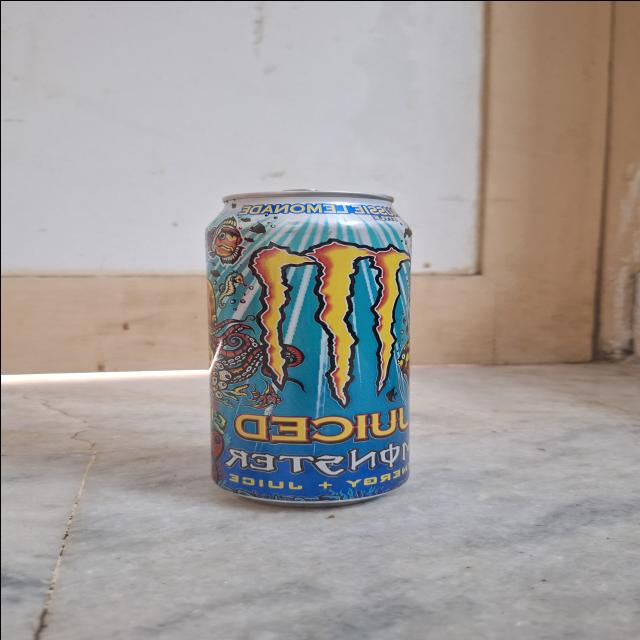Monster Aussie Lemonade: (190, 184, 420, 516)
